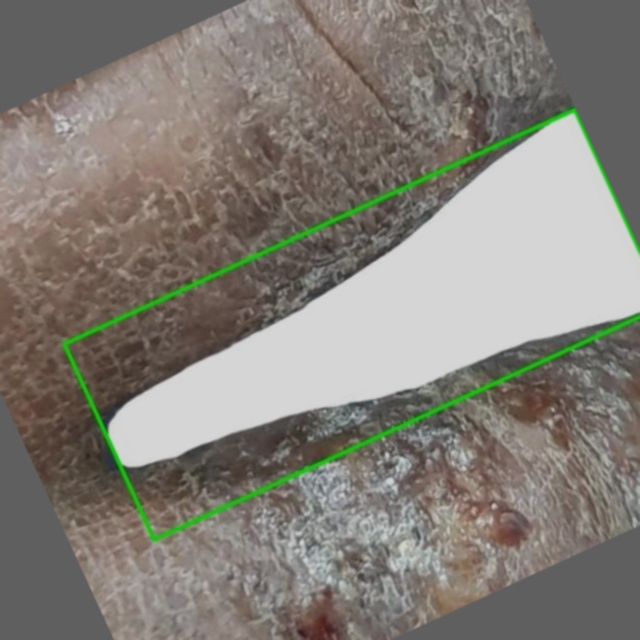Eczema: (64, 109, 639, 539)
